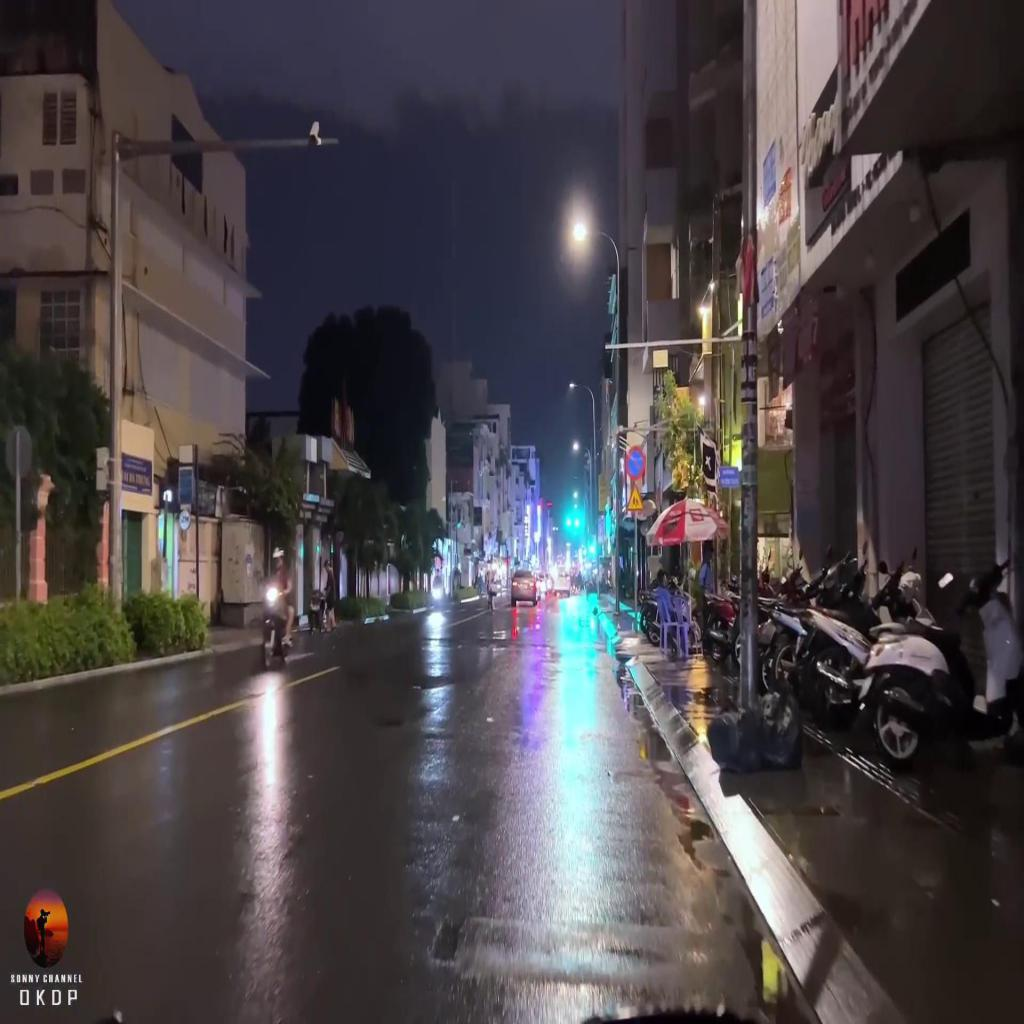cam_do_xe: (625, 446, 645, 480)
chu_y_tre_em: (626, 484, 643, 510)
